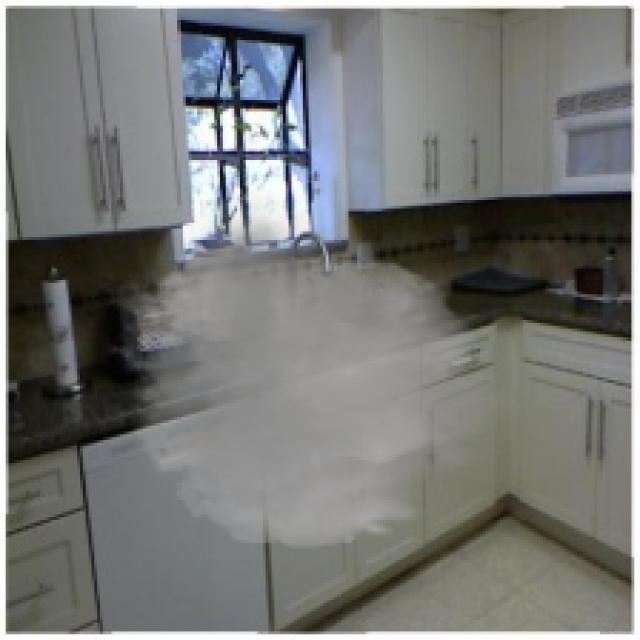smoke: (100, 189, 526, 557)
